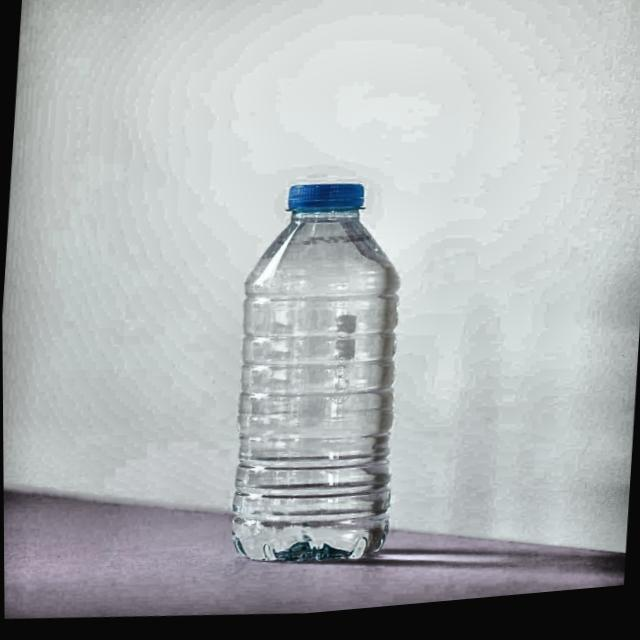Bottles: (211, 164, 431, 596)
